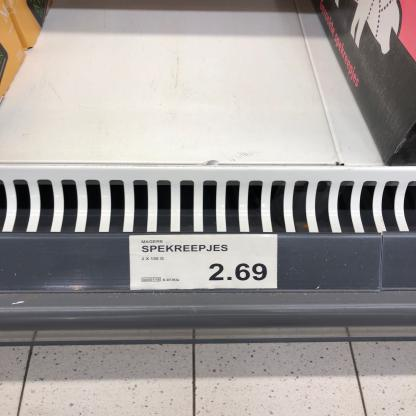prtg: (130, 235, 279, 291)
